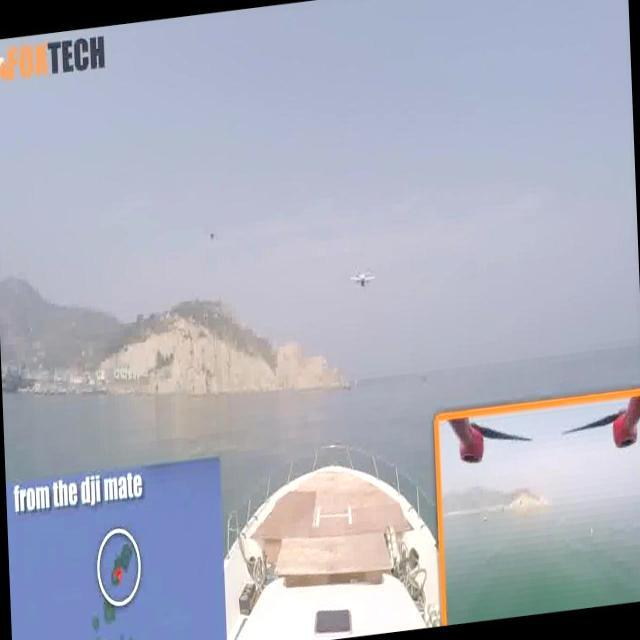drone: (346, 258, 380, 294), (206, 224, 225, 247)
